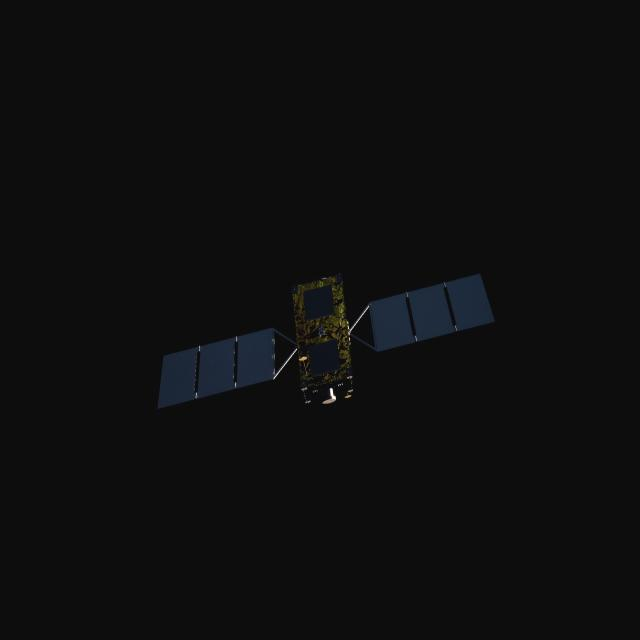satellite: (159, 274, 495, 409)
